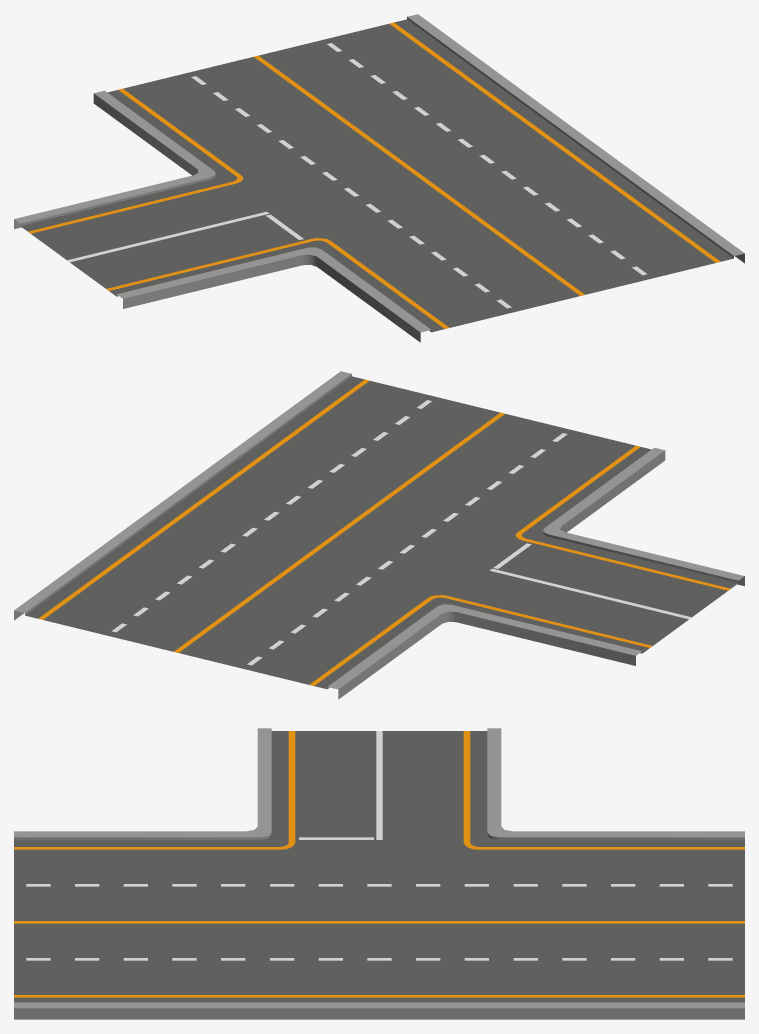
File: Road_B_2L_2_4.fbx
3 views of the same model, one above another, from view 1: azimuth 30°, elevation 25°; view 2: azimuth 150°, elevation 25°; view 3: azimuth 270°, elevation 25° (orthographic). The views are drawn at different scales.
Visible parts, largest first — view 1: Road_B_2L_2_4; view 2: Road_B_2L_2_4; view 3: Road_B_2L_2_4.
Part boxes in pixels (x1,y1,x2,y2): Road_B_2L_2_4: (14, 14, 744, 342); Road_B_2L_2_4: (14, 371, 744, 699); Road_B_2L_2_4: (14, 728, 744, 1019).
Bounding box in the file's own units: 2175 × 41.48 × 2400.
